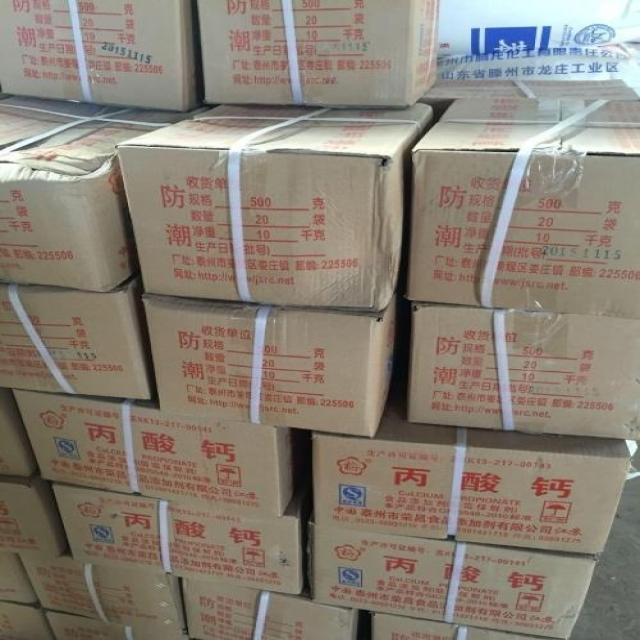box: (115, 102, 439, 313), (311, 372, 631, 553), (406, 99, 640, 319), (0, 96, 219, 292), (12, 389, 306, 519), (143, 293, 398, 437), (306, 524, 598, 640), (408, 299, 640, 441), (54, 473, 311, 594), (197, 0, 439, 108), (0, 274, 156, 400), (18, 548, 187, 633), (183, 577, 360, 640), (417, 79, 640, 119), (0, 467, 69, 556), (370, 612, 567, 640), (42, 610, 186, 640), (0, 387, 38, 476), (0, 600, 52, 640), (0, 555, 40, 604)
